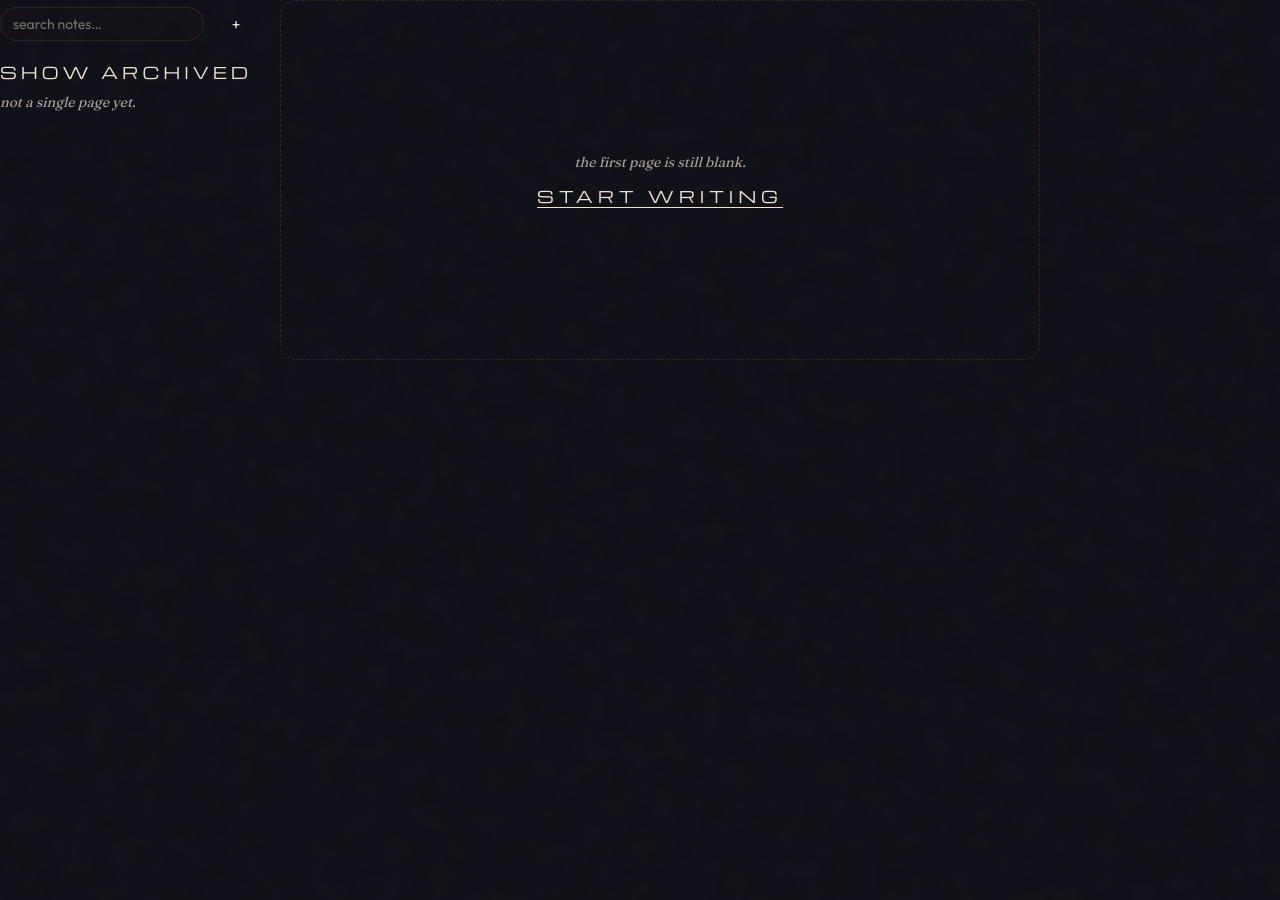
Test: NotebookShell fullscreen › Escape exits fullscreen
Click the button "start writing".
click(660, 196)  # box [537, 184, 783, 208]
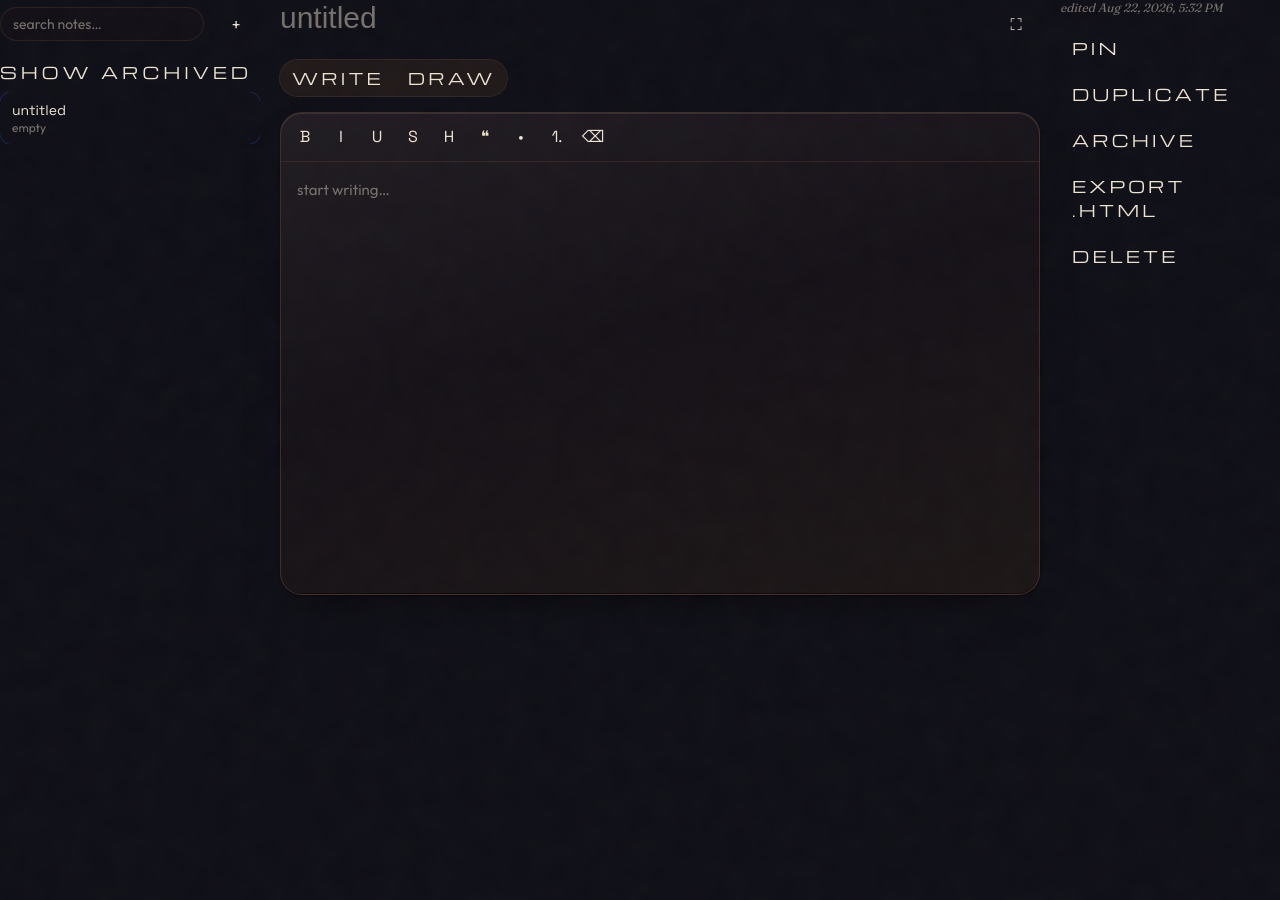
Check: the field with placeholder "untitled" is shown, box [280, 0, 980, 36]
Click the button named "expand to fullscreen".
click(1016, 24)  # box [992, 0, 1040, 48]
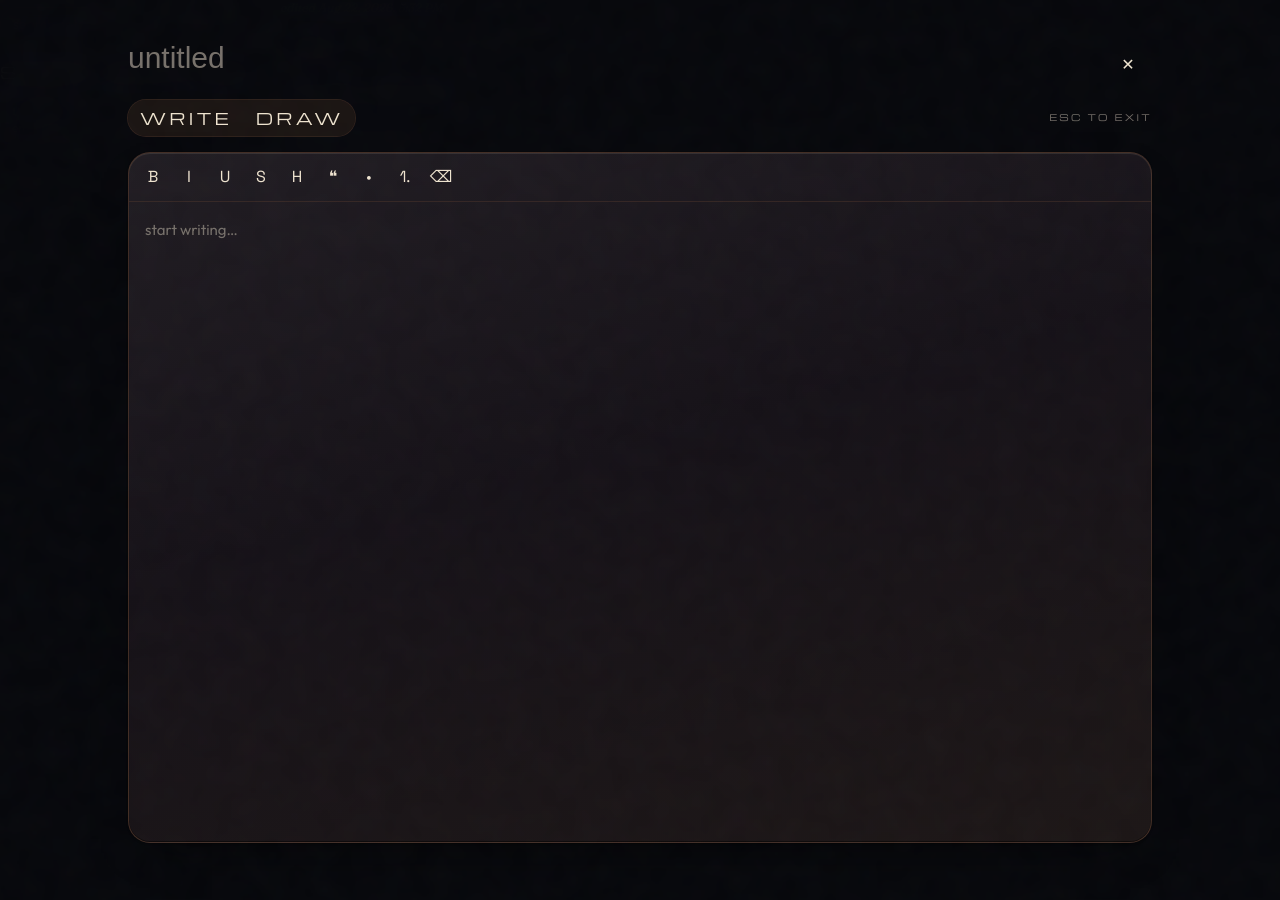
Check: the button named "exit fullscreen" is shown, box [1104, 40, 1152, 88]
Press Escape
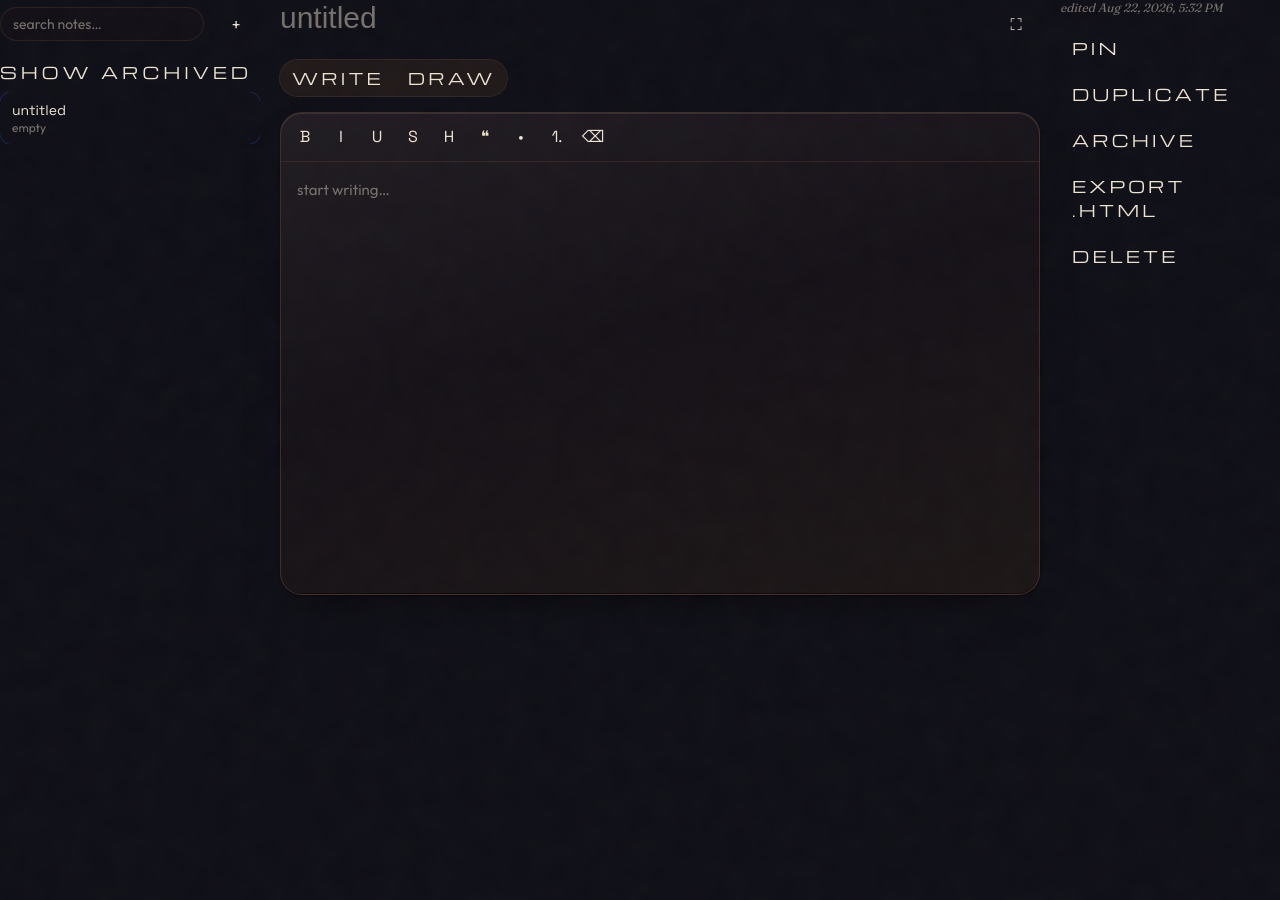
Check: the button named "expand to fullscreen" is shown, box [992, 0, 1040, 48]
